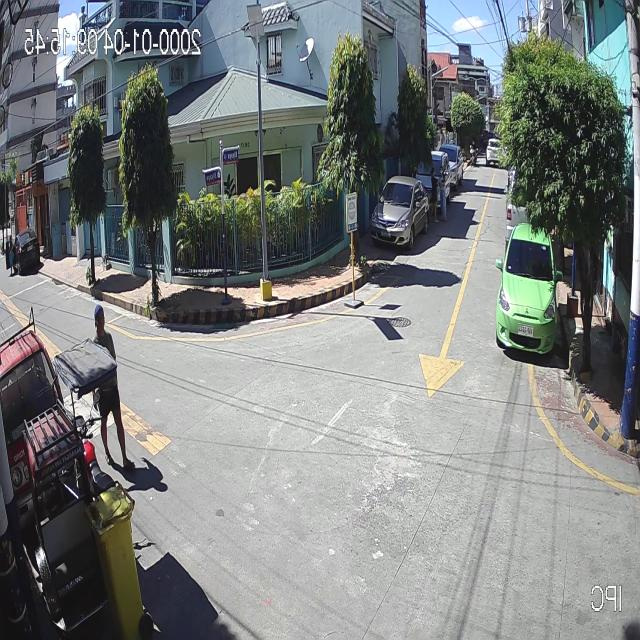walking: (88, 303, 131, 466)
